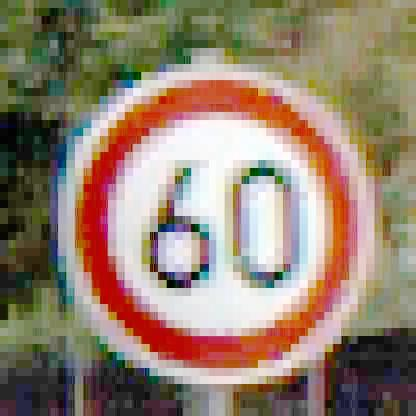Speed Limit -60-: (58, 68, 375, 384)
